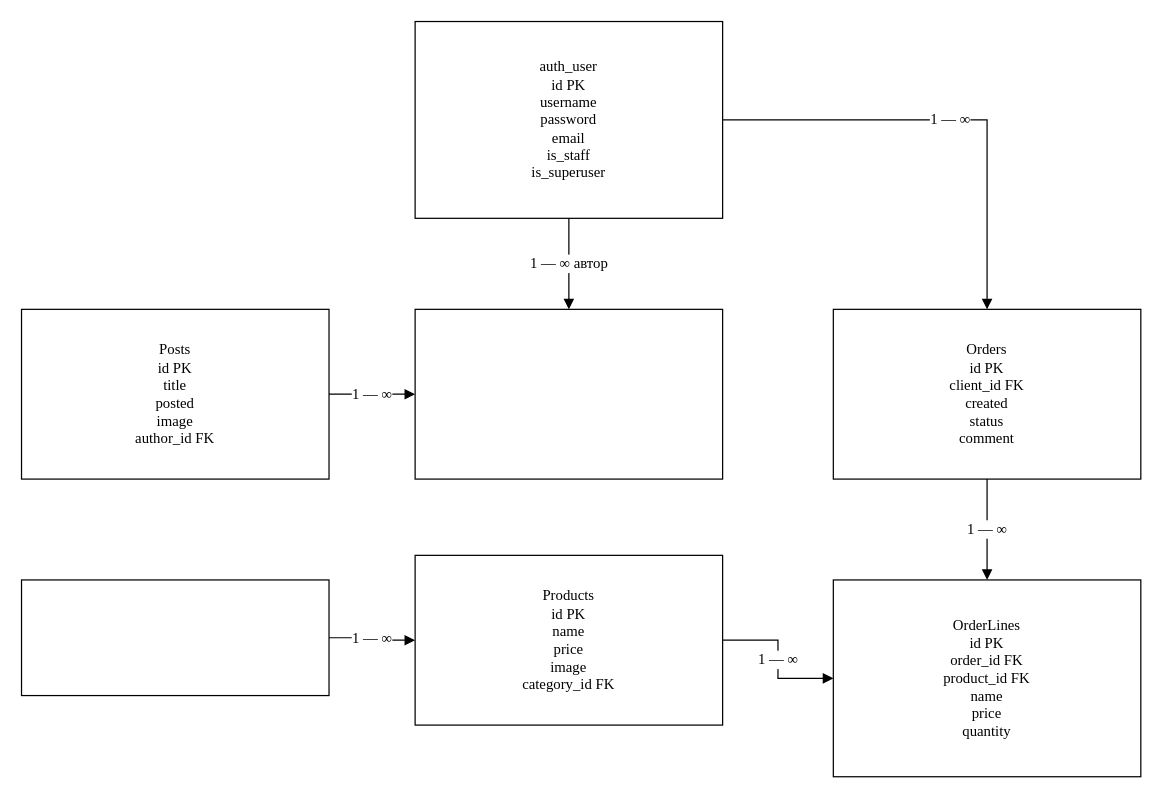
Image size: 1162x798. Some labels were removed from this diagram. The centre of each missing label's shape, as x and y in pixels:
"Categories id PK name description" goes at pixel 174 637.
"Comments id PK text date author_id FK post_id FK" goes at pixel 568 393.
